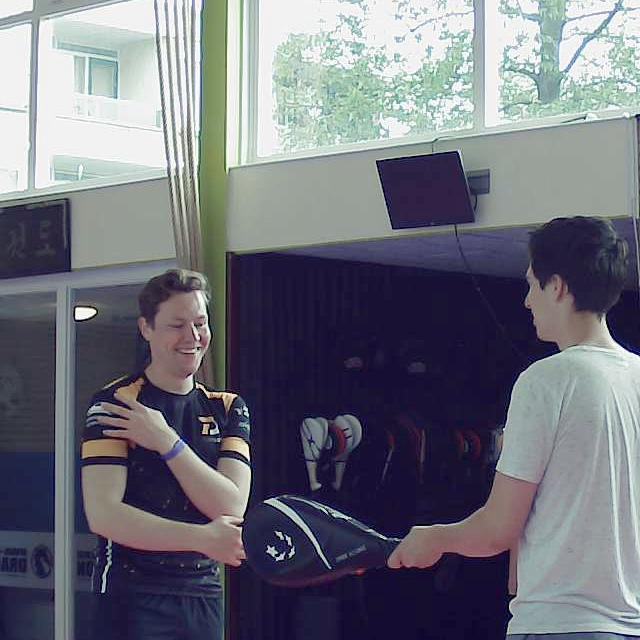paddle: (241, 492, 410, 585)
